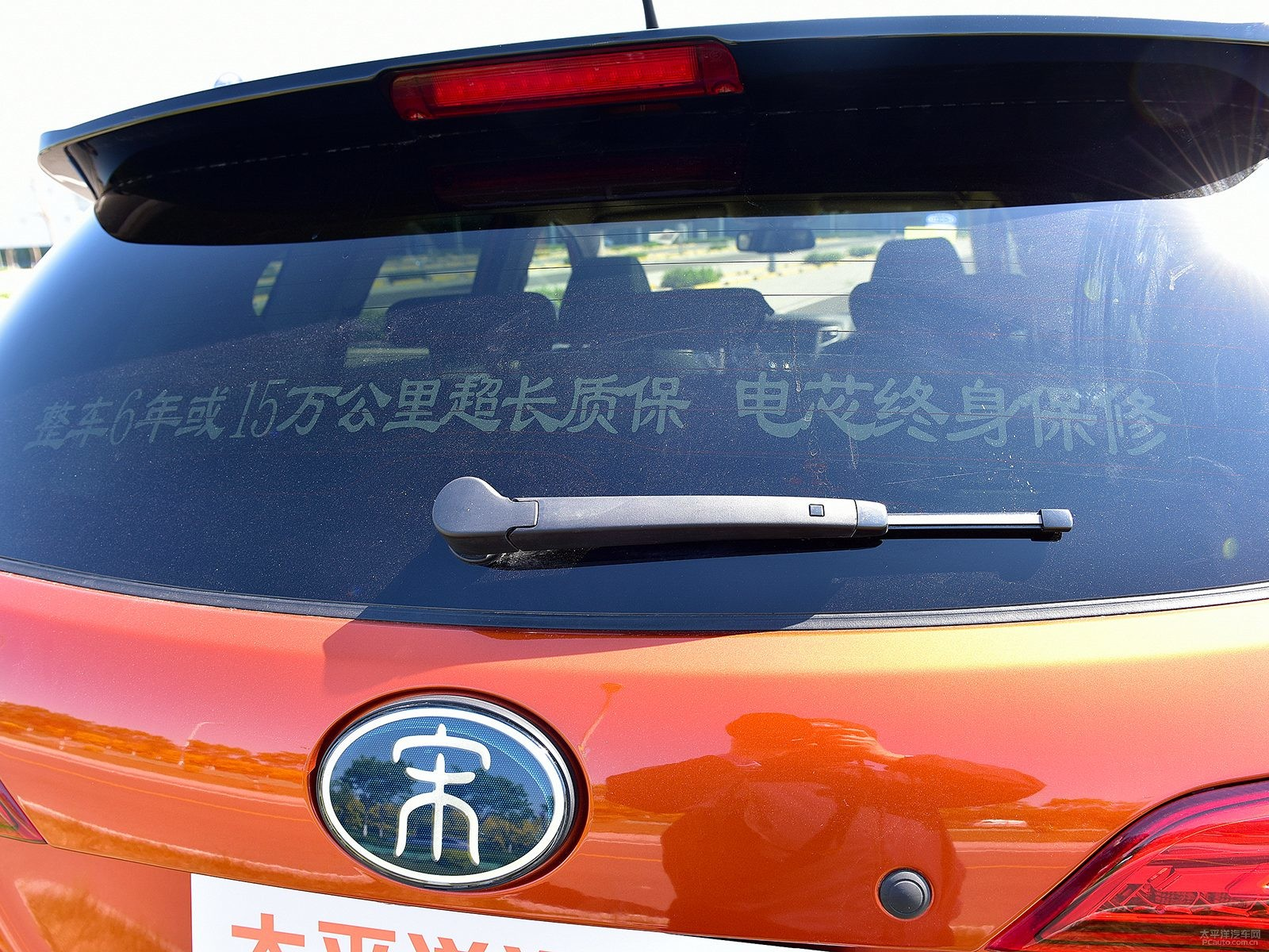BYD Song: (322, 708, 565, 883)
